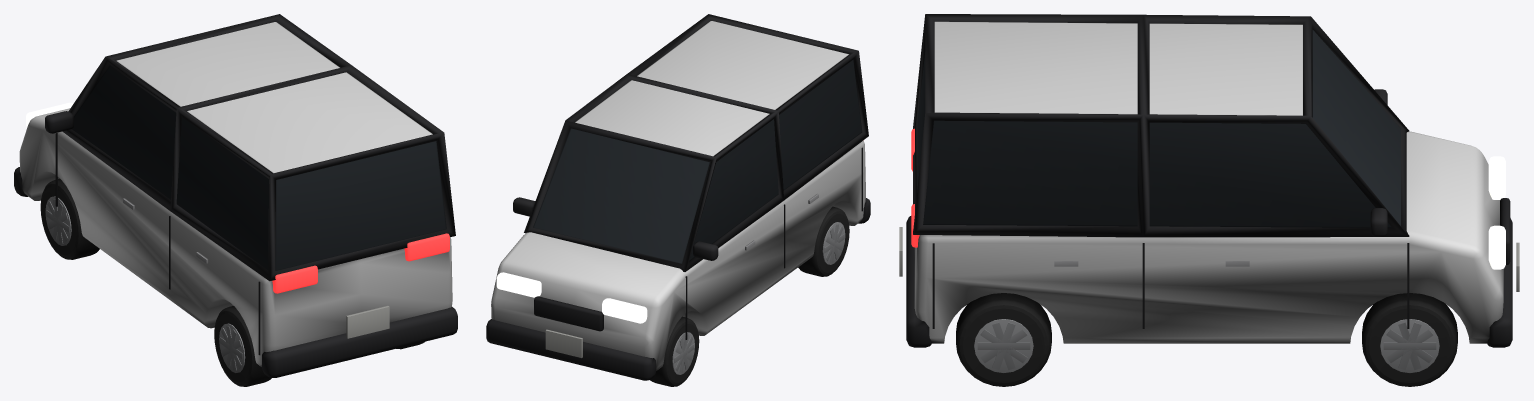
Rendered from car_kei.glb.
3 views of the same model, side by side, from view 1: azimuth 30°, elevation 25°; view 2: azimuth 150°, elevation 25°; view 3: azimuth 270°, elevation 25° (orthographic). The views are drawn at different scales.
Visible parts, largest first — view 1: Cabin, Body, Frame, BumperR, WheelMesh_RL, WheelMesh_FL, Light_Tail, PlateR, Mirror; view 2: Cabin, Body, Frame, BumperF, WheelMesh_RL, WheelMesh_FL, Light_Head, Grille, PlateF, Mirror, Mirror.001; view 3: Cabin, Body, Frame, WheelMesh_RR, WheelMesh_FR, Light_Head, BumperR, BumperF.
Part boxes in pixels (x1,y1,x2,y2): Cabin: (72,22,446,270); Body: (19,108,452,366); Frame: (62,14,455,281); BumperR: (261,307,457,377); WheelMesh_RL: (214,306,271,386); WheelMesh_FL: (40,178,99,259); Light_Tail: (272,233,449,293); PlateR: (346,305,389,338); Mirror: (45,111,73,133); Cabin: (533,21,861,263); Body: (491,140,865,370); Frame: (524,14,868,271); BumperF: (486,319,656,380); WheelMesh_RL: (798,206,849,276); WheelMesh_FL: (650,316,699,386); Light_Head: (496,272,647,323); Grille: (534,296,603,331); PlateF: (545,329,582,357); Mirror: (693,241,718,260); Mirror.001: (513,197,535,216); Cabin: (917,21,1400,227); Body: (914,131,1503,343); Frame: (913,14,1409,237); WheelMesh_RR: (956,293,1051,386); WheelMesh_FR: (1362,293,1457,386); Light_Head: (1488,156,1505,269); BumperR: (906,216,931,347); BumperF: (1487,218,1512,347).
Size of the model in its own units: 1.84 by 1.76 by 3.62.
